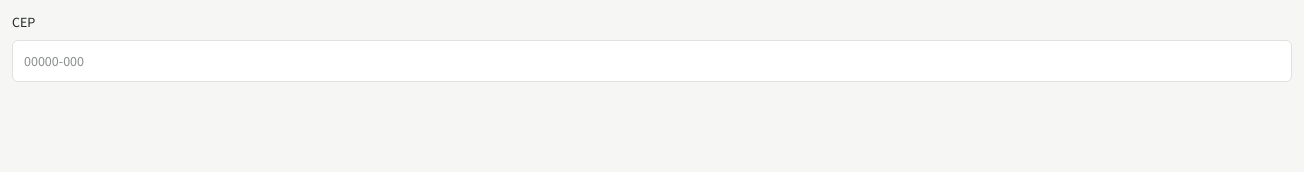
mantém o preenchimento manual quando a consulta falha
Type "66000000" into the field labelled "CEP". click: [652, 61]
box: x1=12 y1=40 x2=1292 y2=82
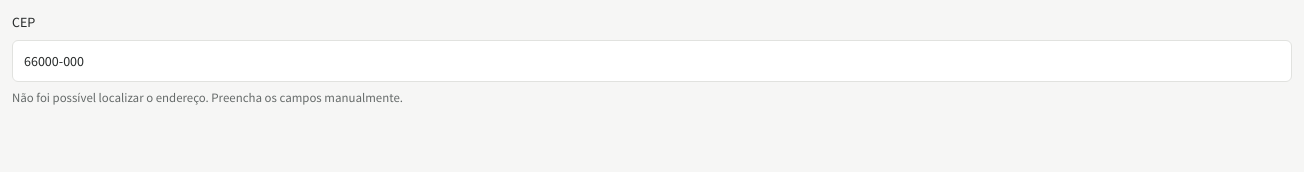
Expected: the text "Não foi possível localizar o endereço. Preencha os campos manualmente." is shown, x1=12 y1=89 x2=403 y2=105
